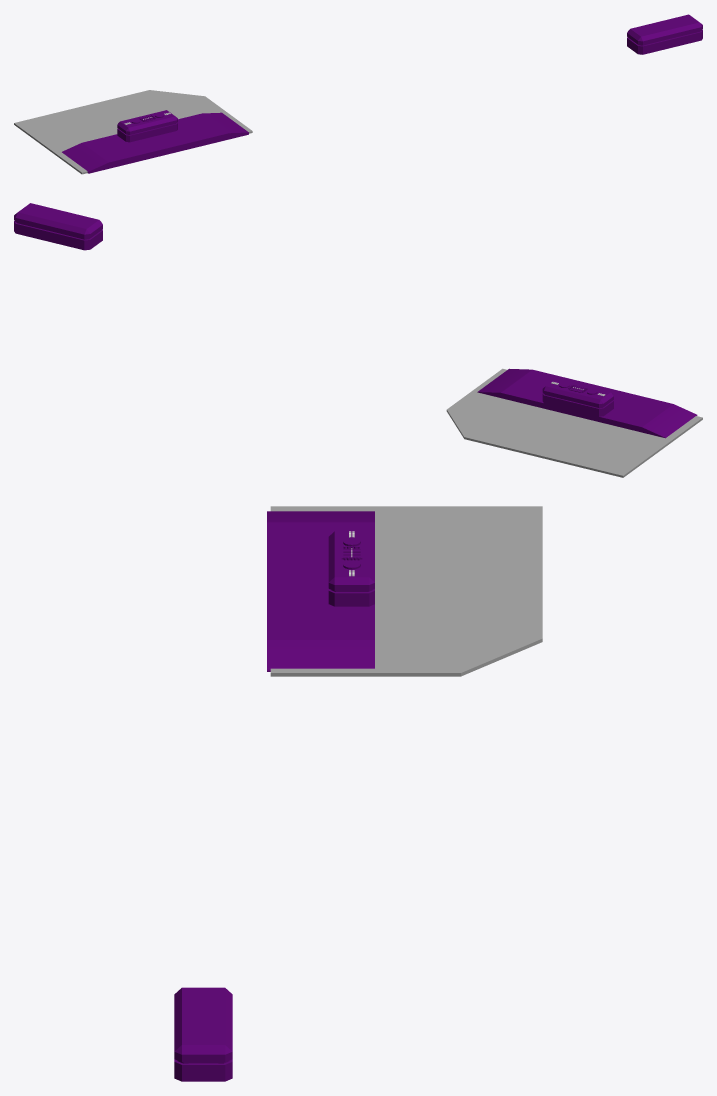
The picture shows the model from 3 angles, top to bottom: view 1: azimuth 30°, elevation 25°; view 2: azimuth 150°, elevation 25°; view 3: azimuth 270°, elevation 25°; orthographic projection. The views are drawn at different scales.
Visible parts, largest first — view 1: pCube97, DJ_Base, pCube172, pCube170, pCube173; view 2: pCube97, DJ_Base, pCube172, pCube170, pCube173; view 3: pCube97, DJ_Base, pCube172, pCube173, pCube170.
Boxes of the visible parts, bbox=[...] form: pCube97: bbox=[14, 90, 252, 174]; DJ_Base: bbox=[62, 112, 248, 173]; pCube172: bbox=[627, 14, 702, 54]; pCube170: bbox=[117, 116, 153, 142]; pCube173: bbox=[143, 110, 177, 136]; pCube97: bbox=[446, 368, 702, 477]; DJ_Base: bbox=[477, 368, 697, 438]; pCube172: bbox=[14, 203, 102, 250]; pCube170: bbox=[571, 385, 613, 416]; pCube173: bbox=[542, 379, 582, 409]; pCube97: bbox=[270, 506, 542, 676]; DJ_Base: bbox=[267, 511, 374, 671]; pCube172: bbox=[174, 987, 232, 1081]; pCube173: bbox=[328, 553, 374, 606]; pCube170: bbox=[328, 531, 374, 559].
Size of the model in its own units: 746 by 27.5 by 199.
